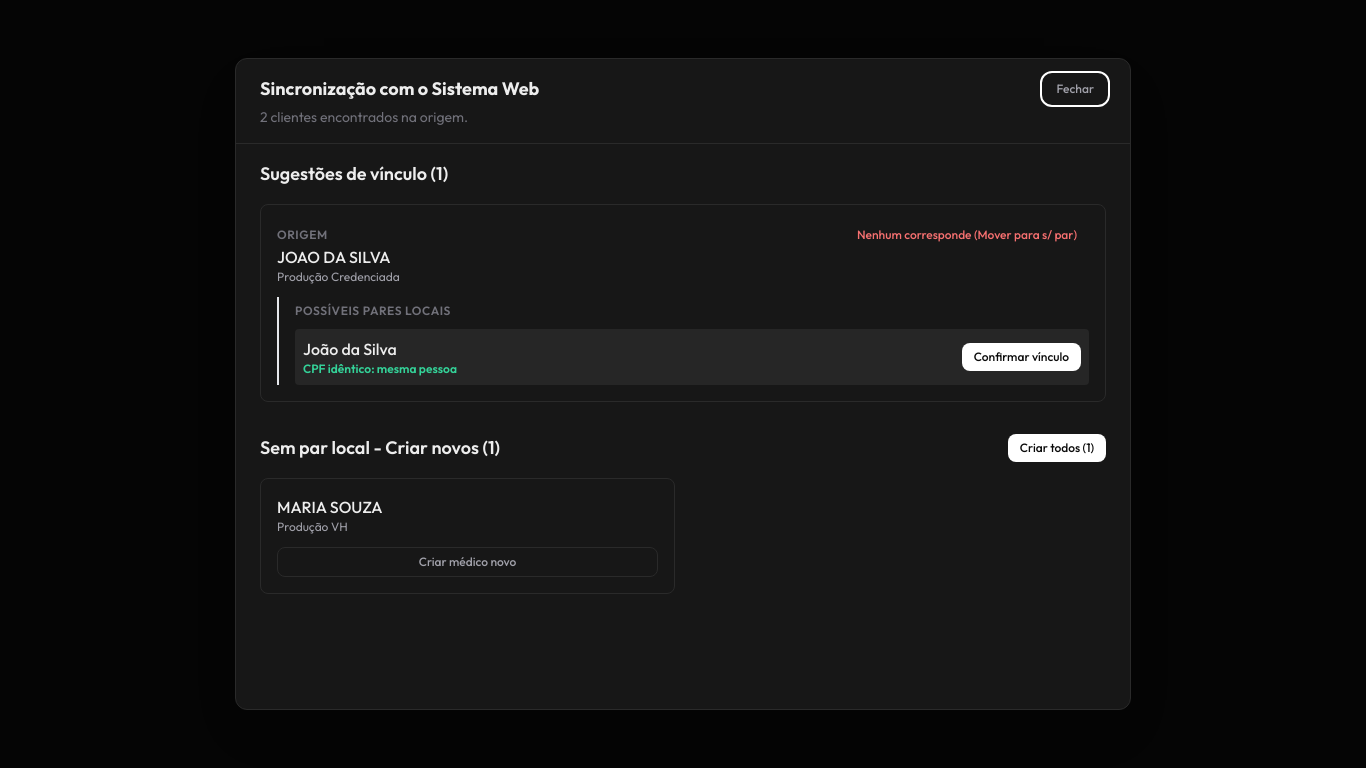
Test: SyncModal — confirmação por cima do modal (pilha) › a confirmação de vínculo empilha por cima e o Escape fecha só ela
Click the button "Confirmar vínculo" at (1021, 357), box [962,343,1081,371]
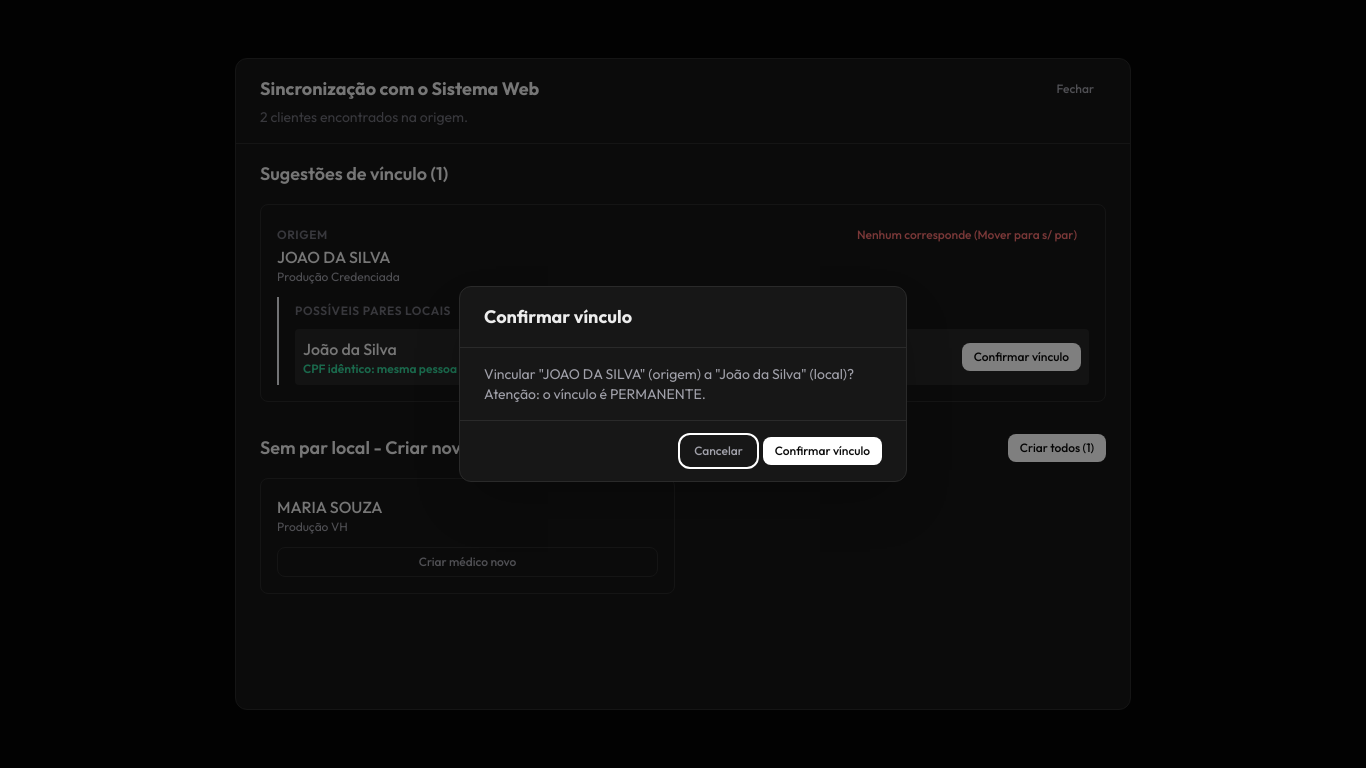
Check: the number of dialogs is 2, box [235,58,1131,710]; [459,286,907,482]
Press Escape
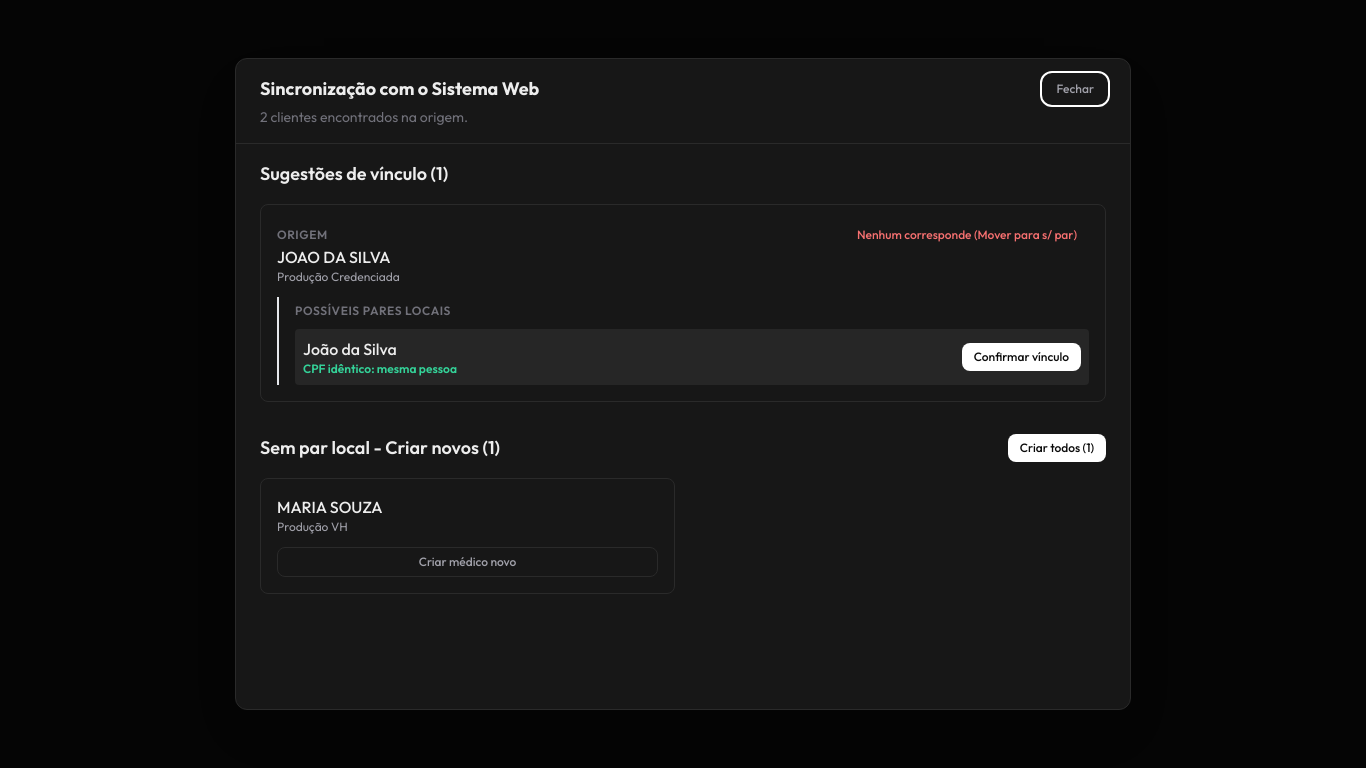
Check: the number of dialogs is 1, box [235,58,1131,710]
